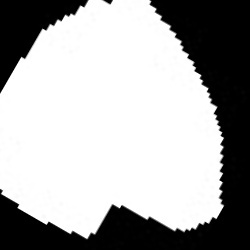spot: (1, 1, 223, 239)
